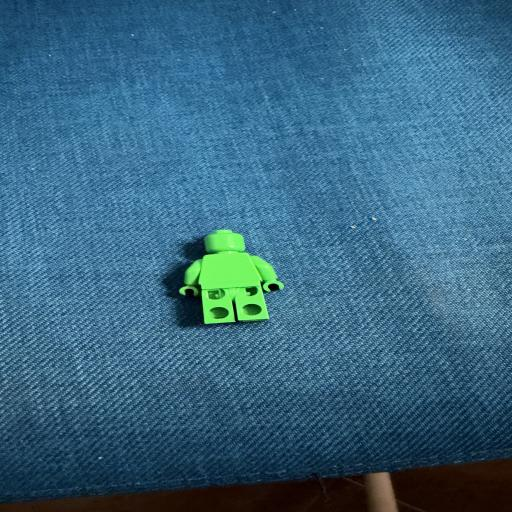green_minifig: (177, 228, 287, 324)
